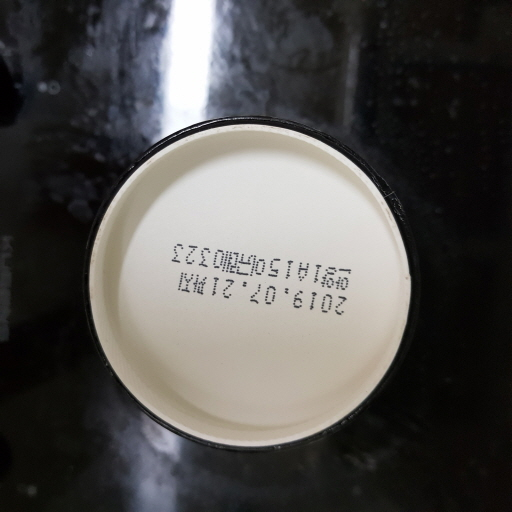Paper_1: (85, 115, 417, 451)
